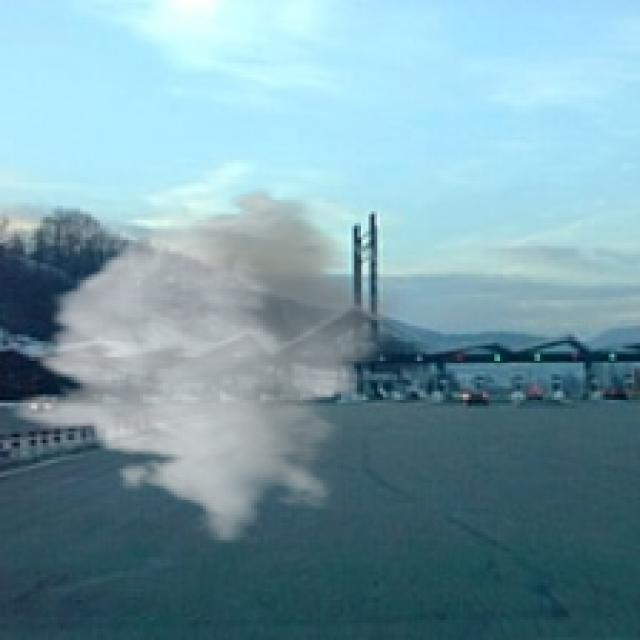Smoke: (6, 188, 406, 546)
